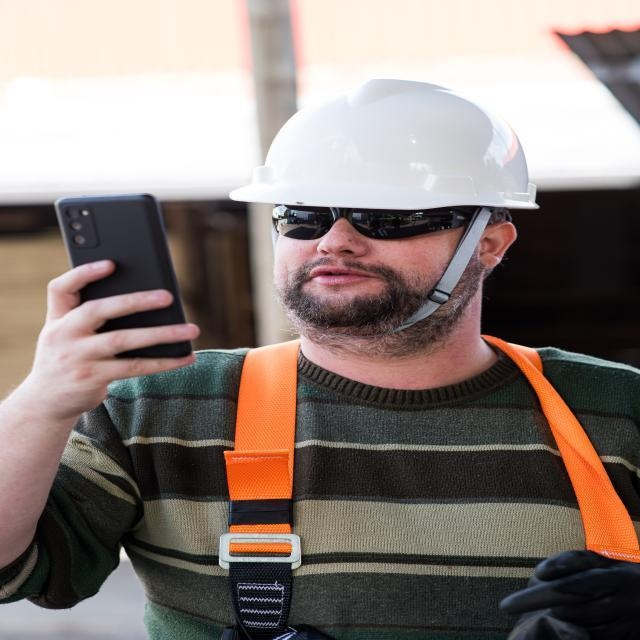Arnes_seguridad: (188, 321, 640, 639)
